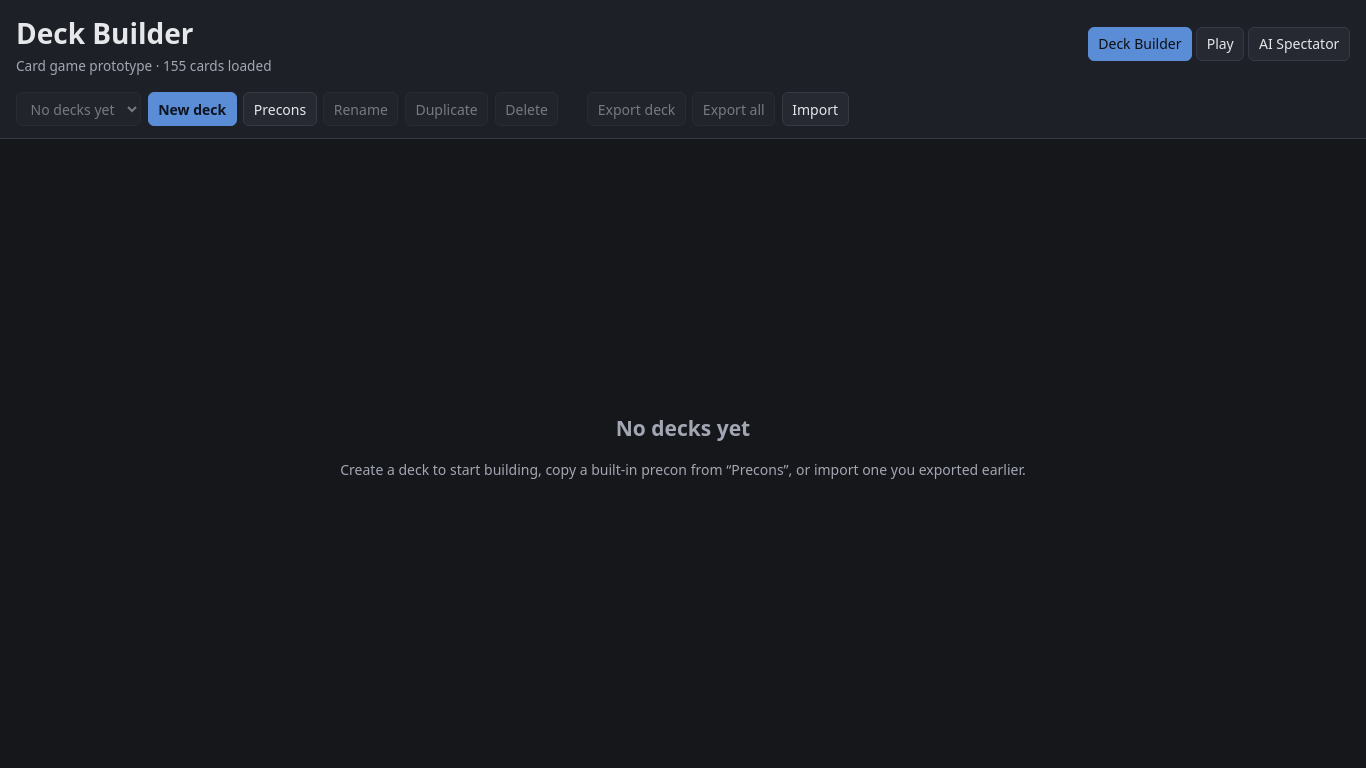
precon browser › lists every precon published for the active format
Click the button "Precons": (280,109) [243,92,317,126]
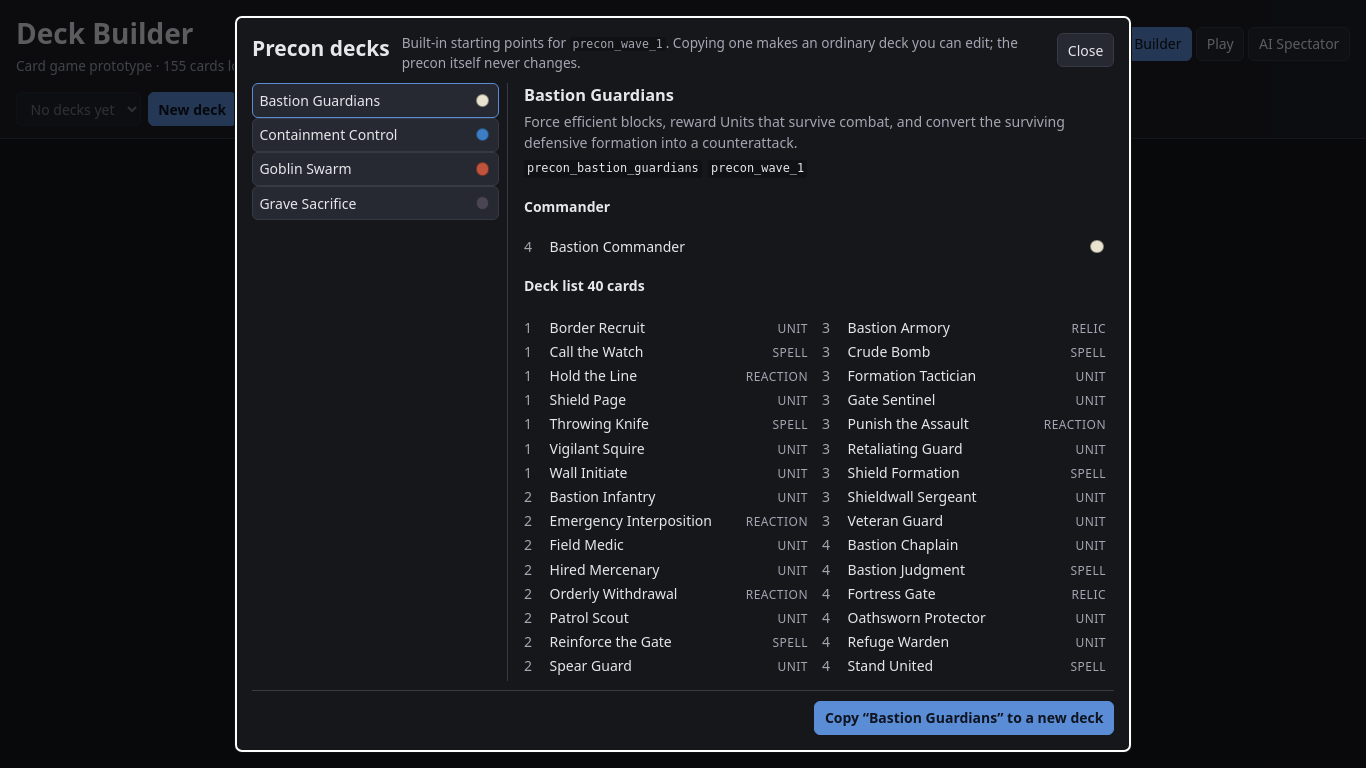
Now the button "Bastion Guardians" is shown, box [252,83,499,118]
Now the button "Containment Control" is shown, box [252,118,499,152]
Now the button "Goblin Swarm" is shown, box [252,152,499,186]
